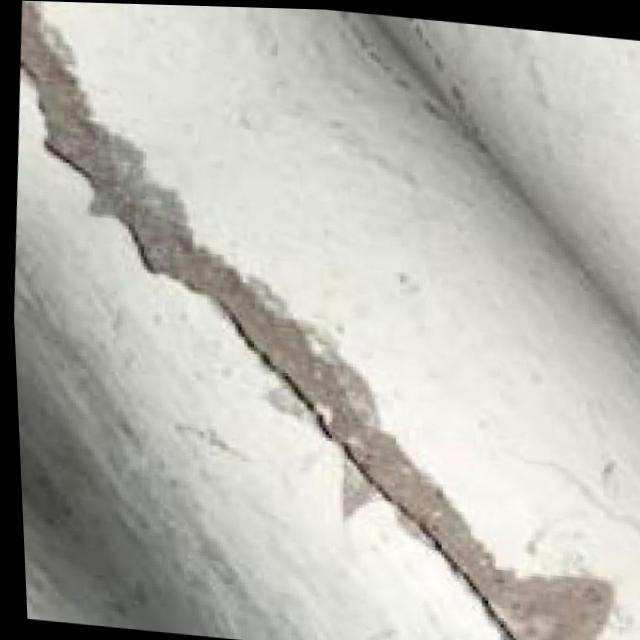Crack: (1, 35, 574, 640)
